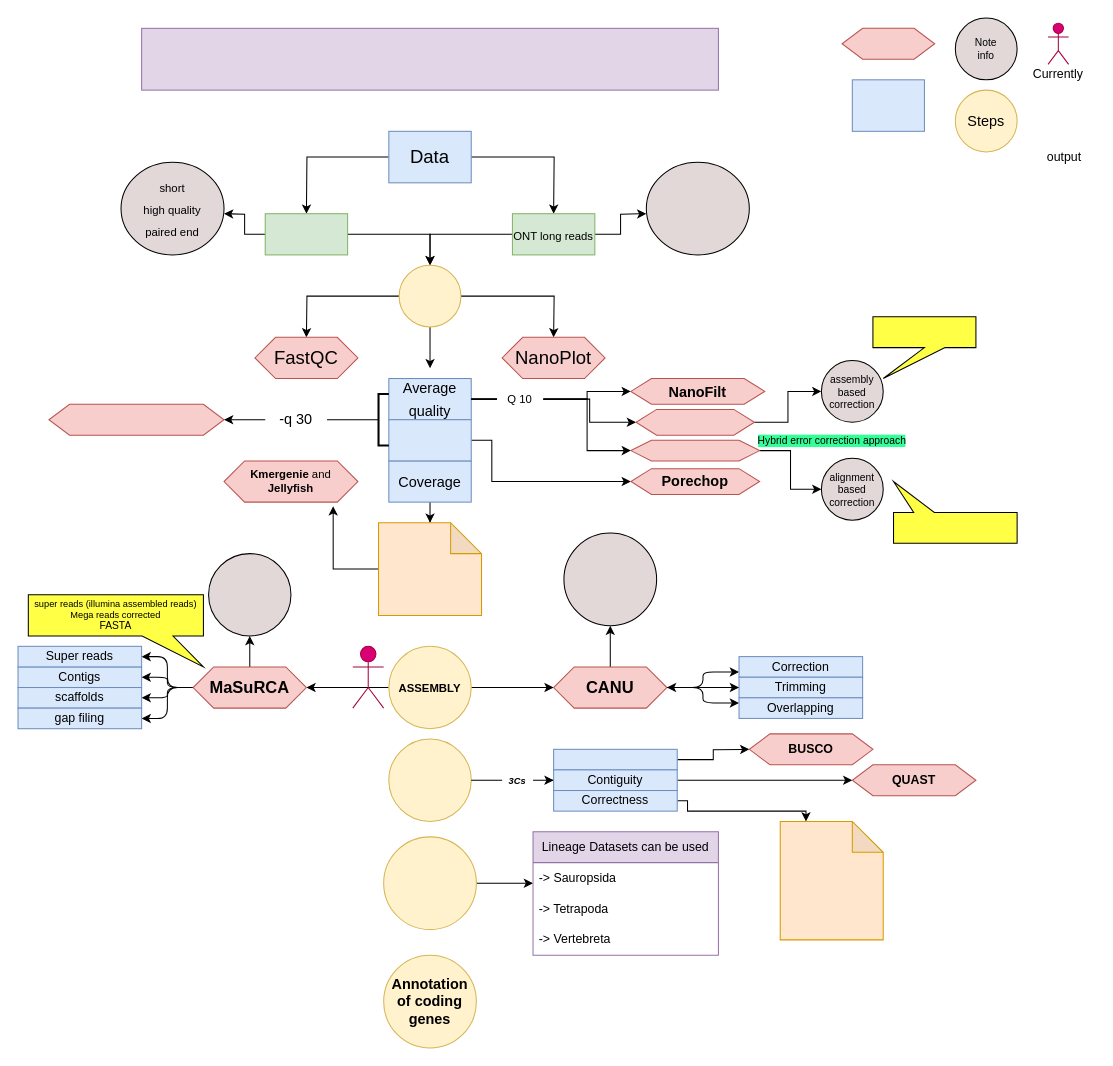
The diagram is 1113 pixels wide and 1066 high, and some of its shapes have lost their labels. Here are the shapes that lost their labels. From the top down, the centre of each, then its label:
At [429,58]: "De Novo Genome Assembly of Echis carinatus (saw scaled snake)".
At [888,43]: "tools".
At [887,105]: "Sub steps".
At [697,208]: "long reads low quality".
At [306,234]: "Illumina short reads".
At [429,295]: "QC".
At [136,419]: "Cutadapt".
At [694,421]: "Ratatosk".
At [429,440]: "Adapter content".
At [695,450]: "Hercules".
At [429,568]: "Estimated Genome size / total number of bases * 100".
At [610,579]: "Long reads only assembly".
At [249,594]: "Hybrid reads assembly".
At [429,779]: "Assembly evaluation".
At [615,759]: "Completeness".
At [429,883]: "BUSCO completeness analysis".
At [831,880]: "Mapping high quality illumina reads on long read contigs or scaffolds".
